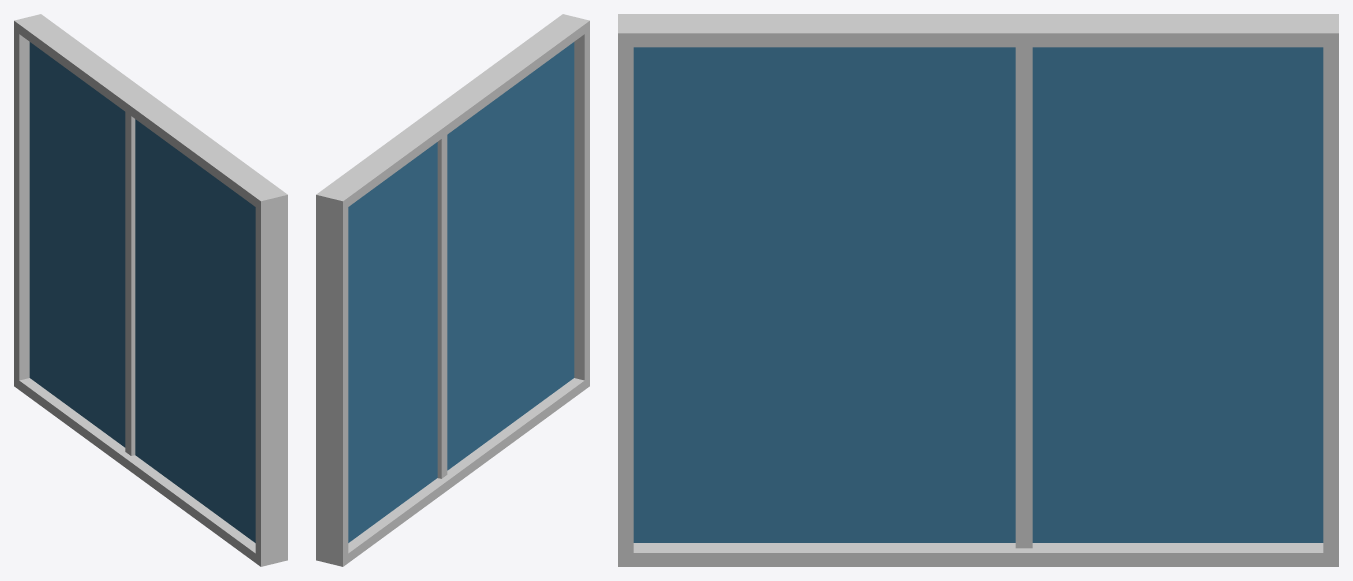
File: Window.fbx
3 renders of one model, left to right at view 1: azimuth 30°, elevation 25°; view 2: azimuth 150°, elevation 25°; view 3: azimuth 270°, elevation 25°, orthographic. The views are drawn at different scales.
Parts seen in each view (by area): view 1: Class Room.002; view 2: Class Room.002; view 3: Class Room.002.
Part boxes in pixels (x1,y1,x2,y2): Class Room.002: (14, 14, 287, 566); Class Room.002: (316, 14, 589, 566); Class Room.002: (618, 14, 1338, 566).
Size of the model in its own units: 10.58 by 136 by 167.
